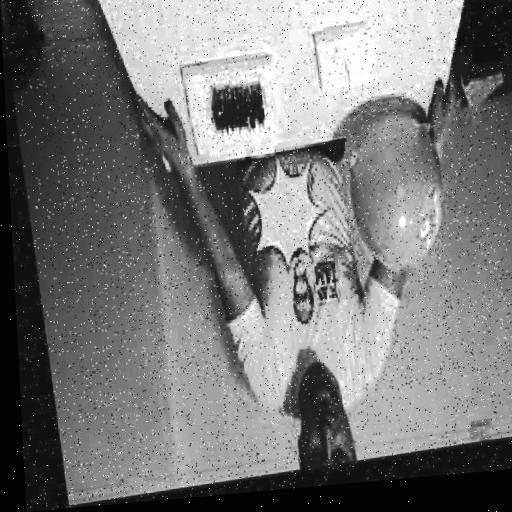balloon: (338, 104, 450, 286)
